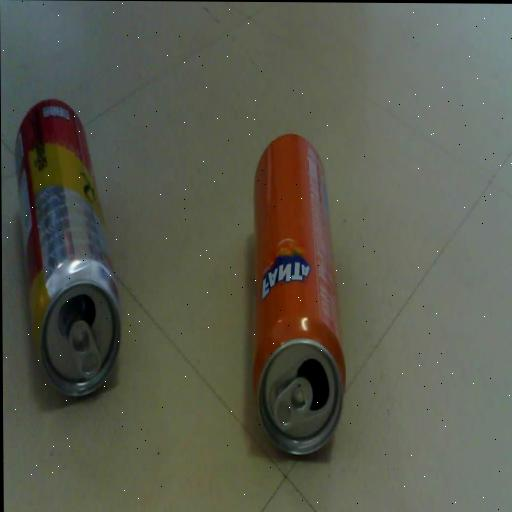canned: (6, 81, 146, 416), (243, 117, 354, 472)
